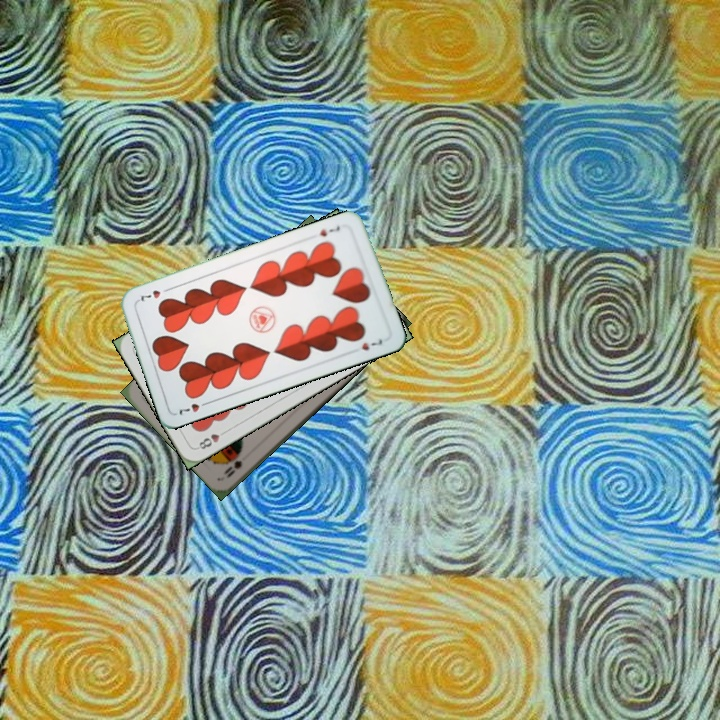H7: (174, 397, 212, 418), (316, 222, 342, 239)
H8: (193, 426, 230, 452)
SO: (219, 456, 244, 480)
